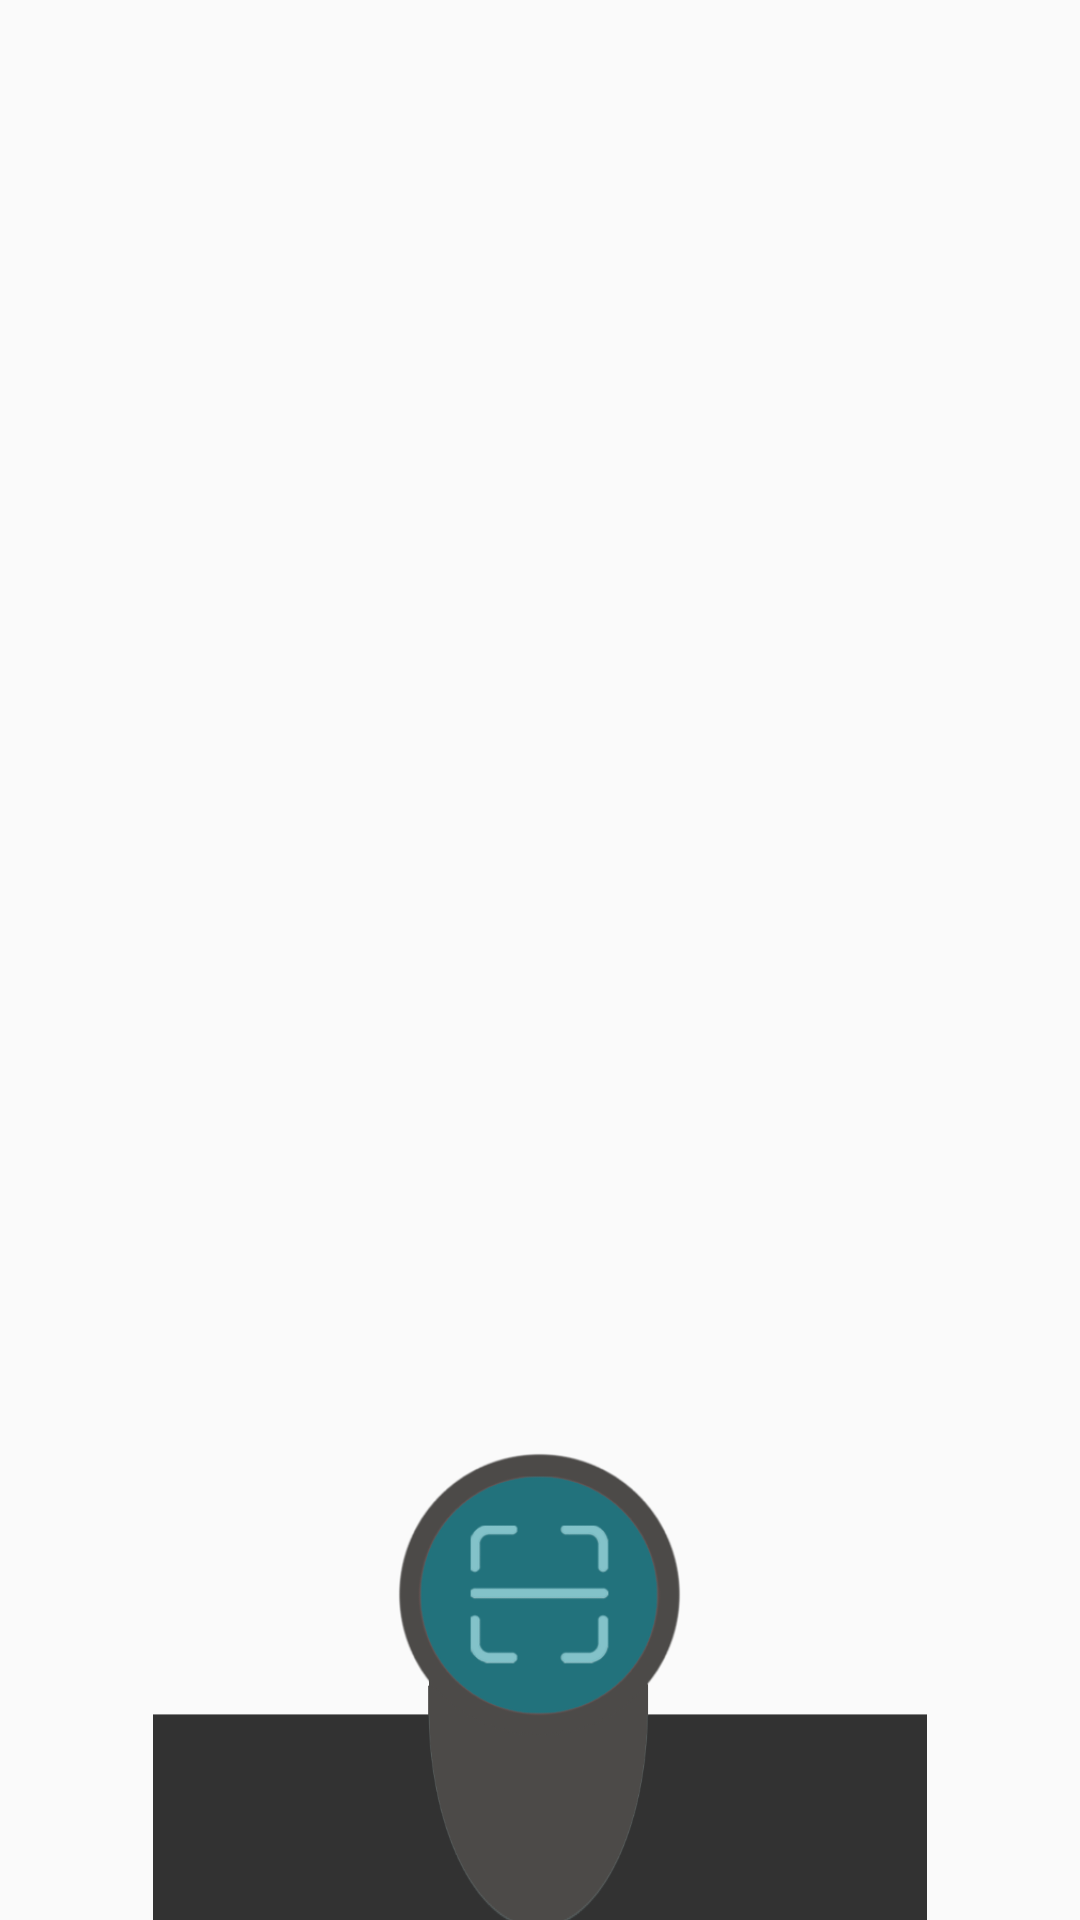

Icons on this 1080*1920 Android screen, each with its box as box=[x1, y1, x2, y2]:
scanbutton: box=[398, 1454, 681, 1736]
